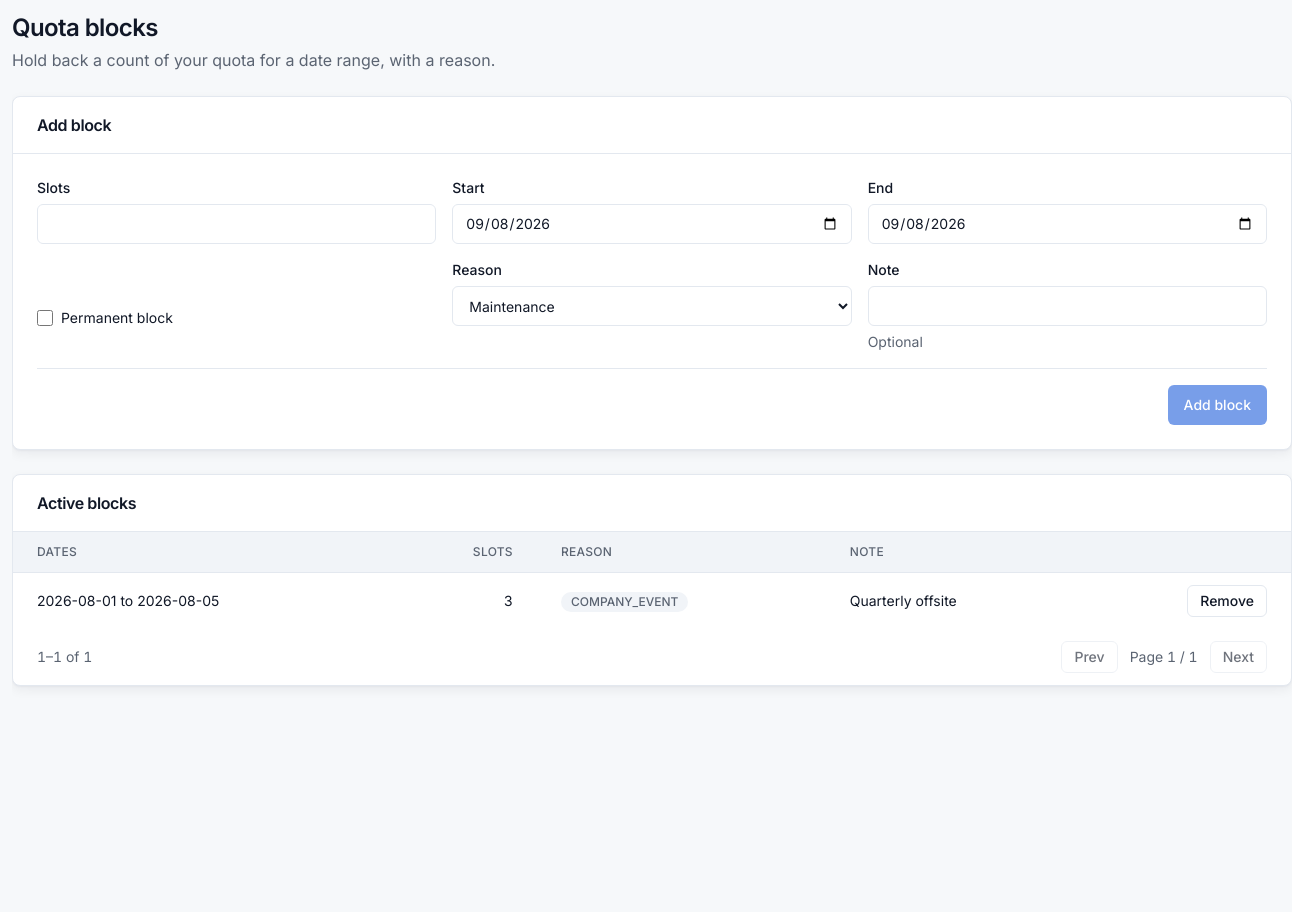
Test case: Blocks › creates a block
expect the text "Quarterly offsite" is shown: met, box [826,572,1081,629]
Step 1. Type "2" into the number field labelled "Slots" → (237, 224), box [37,204,436,244]
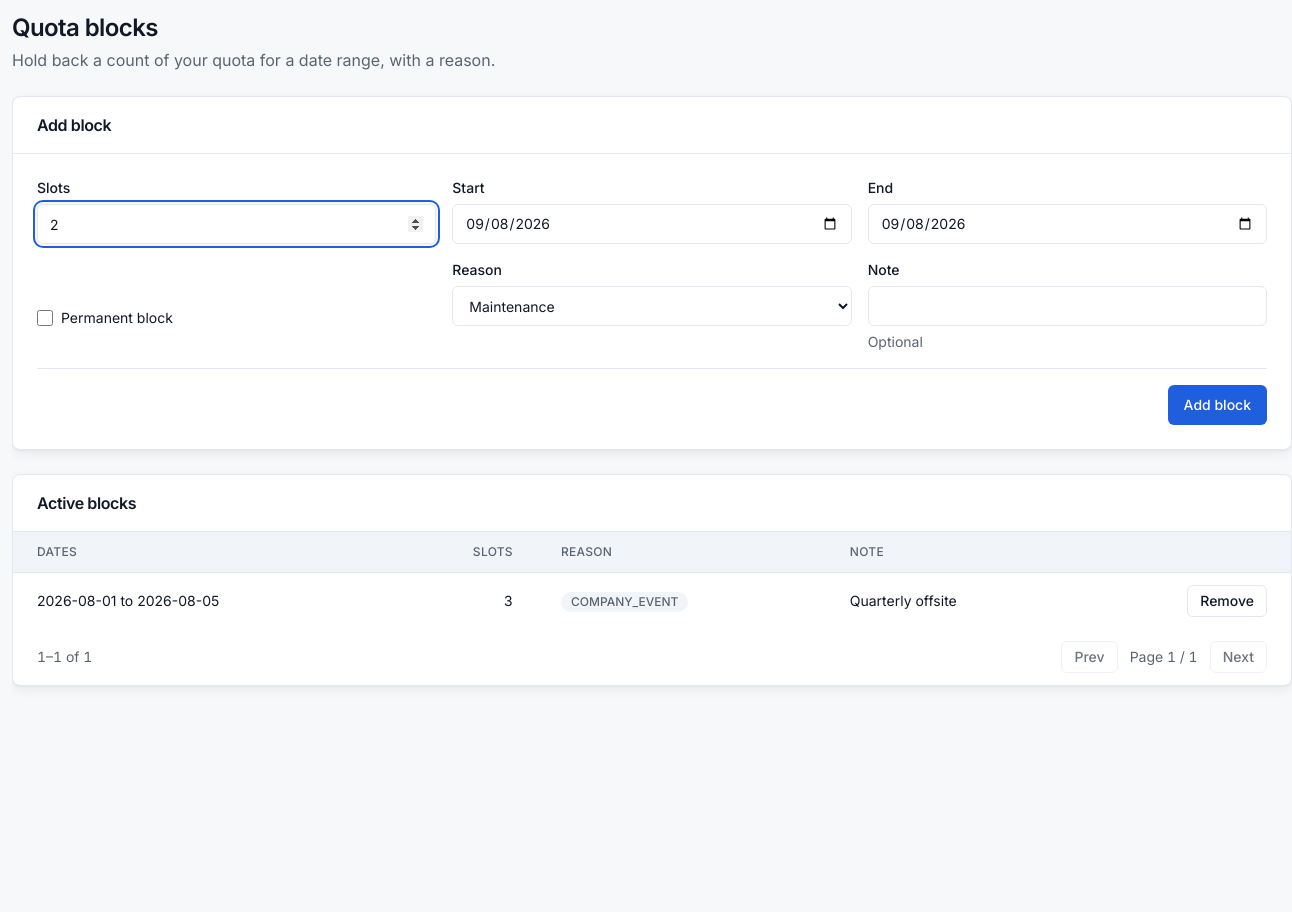
Step 2. Click the button "Add block" → (1217, 405), box [1168,385,1267,425]
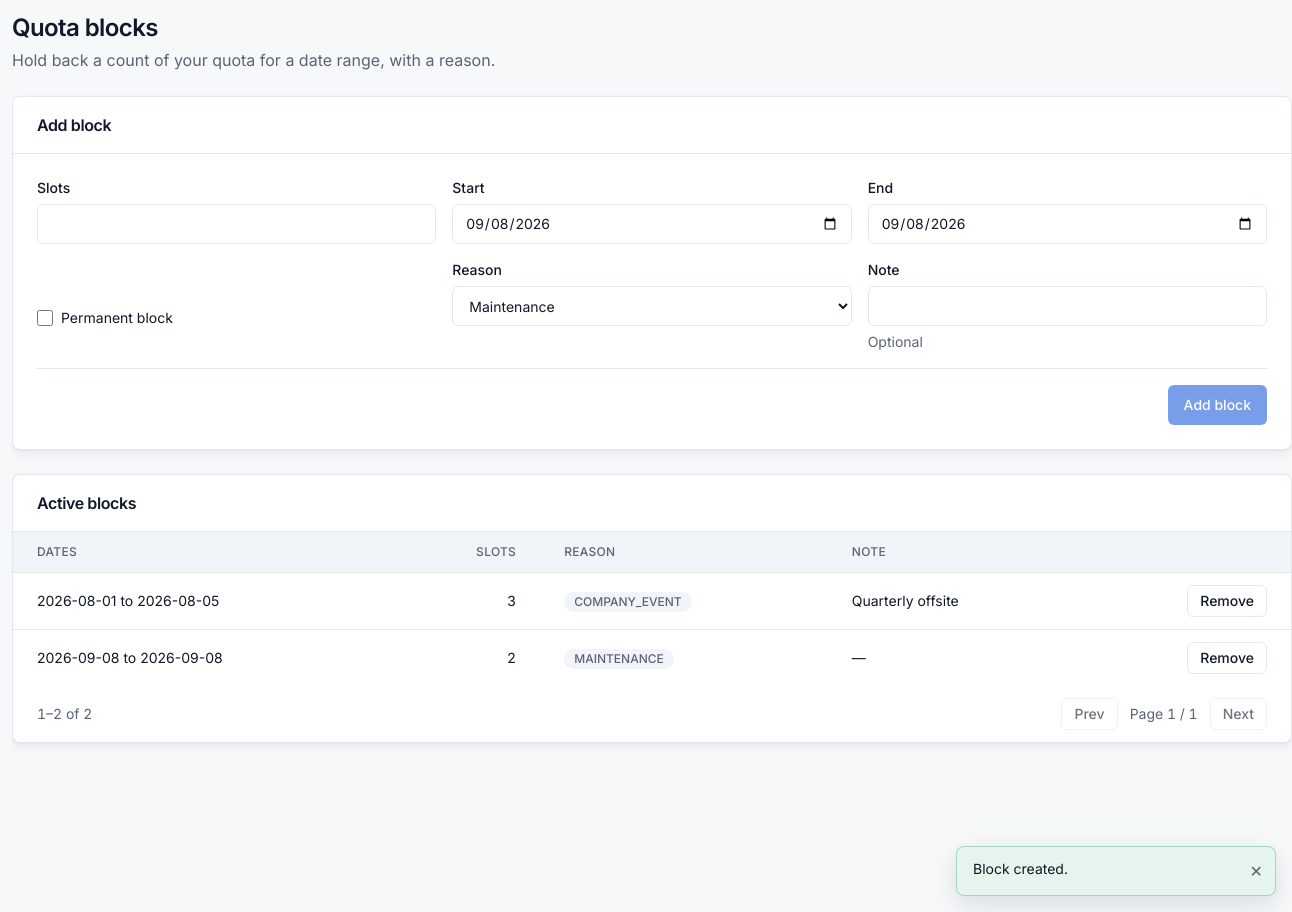
expect the text "Block created." is shown: met, box [973,860,1068,877]
